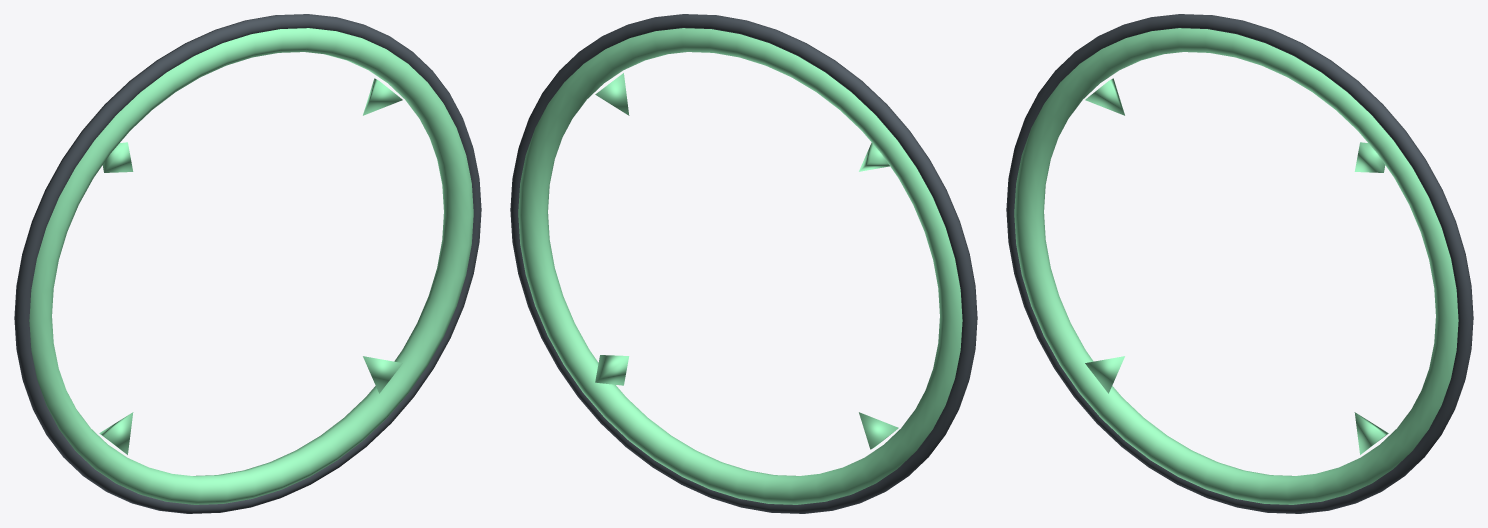
Rendered from FX_Ring.fbx.
3 views of the same model, side by side, from view 1: azimuth 30°, elevation 25°; view 2: azimuth 150°, elevation 25°; view 3: azimuth 330°, elevation 25° (orthographic).
Visible parts, largest first — view 1: Glow.004, Frame; view 2: Glow.004, Frame; view 3: Glow.004, Frame.
Boxes of the visible parts, box(x1,y1,x2,y2) form: Glow.004: box(29, 28, 473, 504); Frame: box(14, 14, 481, 513); Glow.004: box(518, 28, 962, 504); Frame: box(510, 14, 977, 513); Glow.004: box(1014, 28, 1458, 504); Frame: box(1006, 14, 1473, 513).
Bounding box in the file's own units: 57.4 × 57.4 × 3.92.
